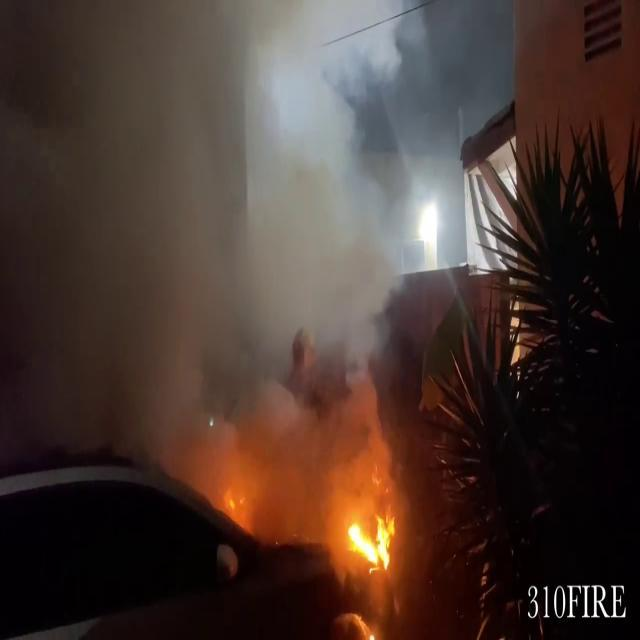Fire: (343, 504, 398, 572)
Smoke: (1, 2, 426, 532)
